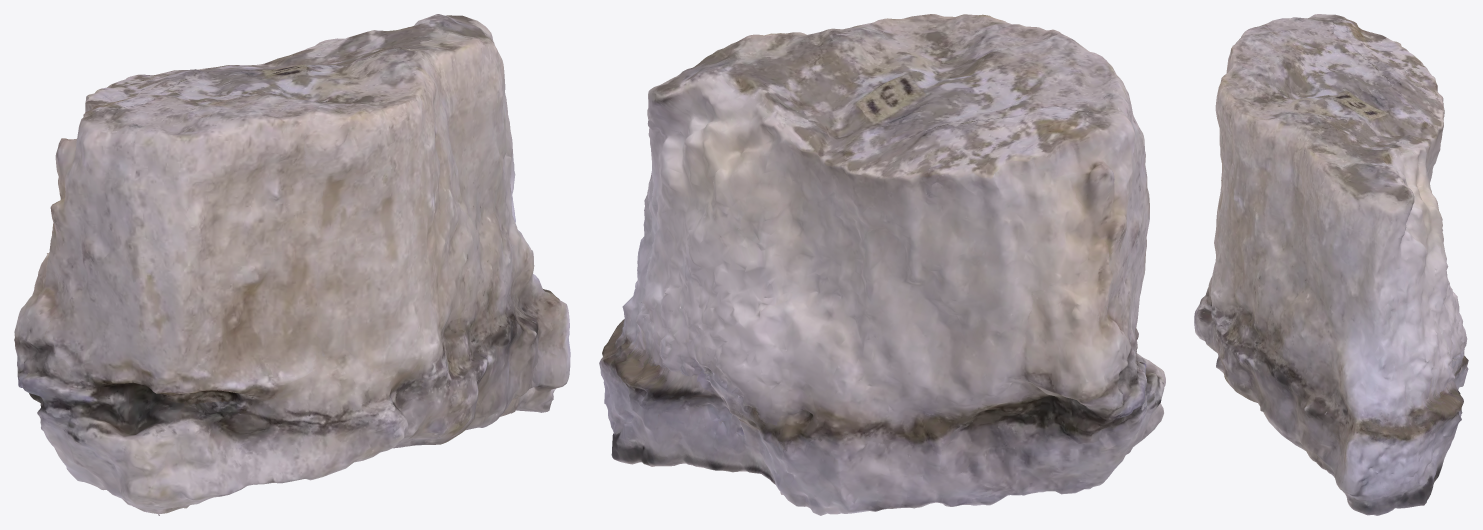
File: gypsum.glb
3 views of the same model, side by side, from view 1: azimuth 30°, elevation 25°; view 2: azimuth 150°, elevation 25°; view 3: azimuth 270°, elevation 25° (orthographic). The views are drawn at different scales.
Parts seen in each view (by area): view 1: Object_2; view 2: Object_2; view 3: Object_2.
Boxes of the visible parts, box(x1,y1,x2,y2) form: Object_2: box(14, 14, 570, 515); Object_2: box(599, 14, 1165, 515); Object_2: box(1194, 14, 1468, 515).
Size of the model in its own units: 1.18 by 0.9233 by 0.6713.
Materials: 1 (1 with a texture image).
